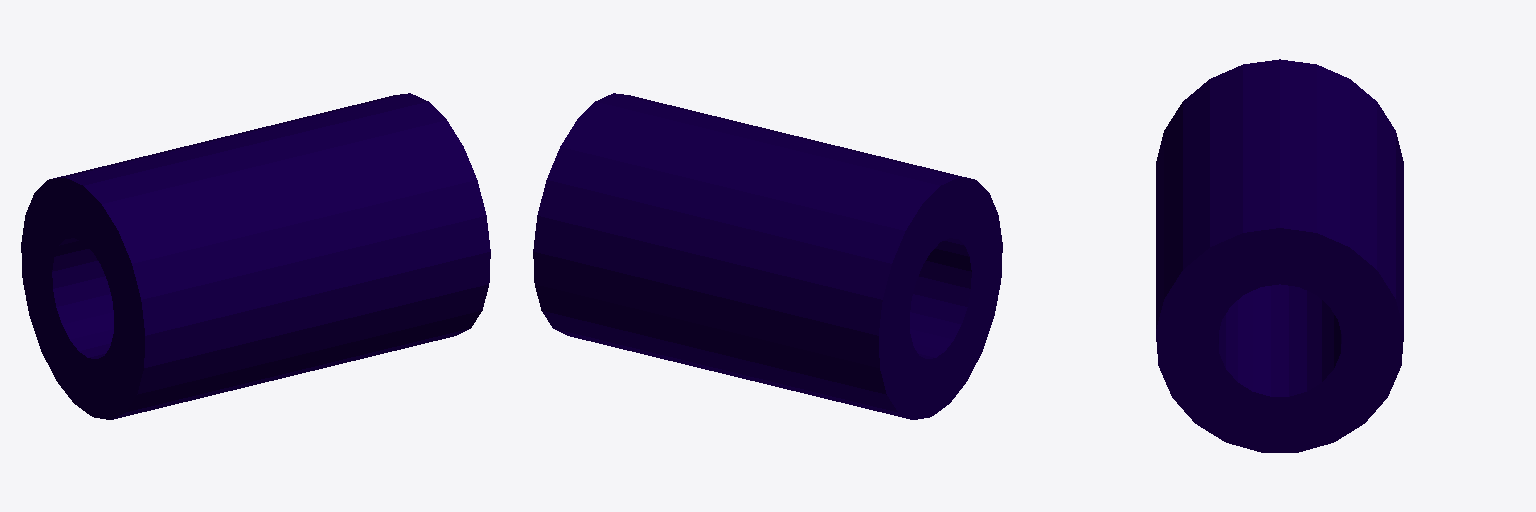
The model's file is cable.obj.
The picture shows the model from 3 angles: view 1: azimuth 30°, elevation 25°; view 2: azimuth 150°, elevation 25°; view 3: azimuth 270°, elevation 25°; orthographic projection.
Visible parts, largest first — view 1: pPipe1; view 2: pPipe1; view 3: pPipe1.
Part boxes in pixels (x1,y1,x2,y2): pPipe1: (21, 93, 490, 419); pPipe1: (533, 93, 1002, 419); pPipe1: (1156, 59, 1403, 452).
Bounding box in the file's own units: 16 × 9.94 × 9.97.